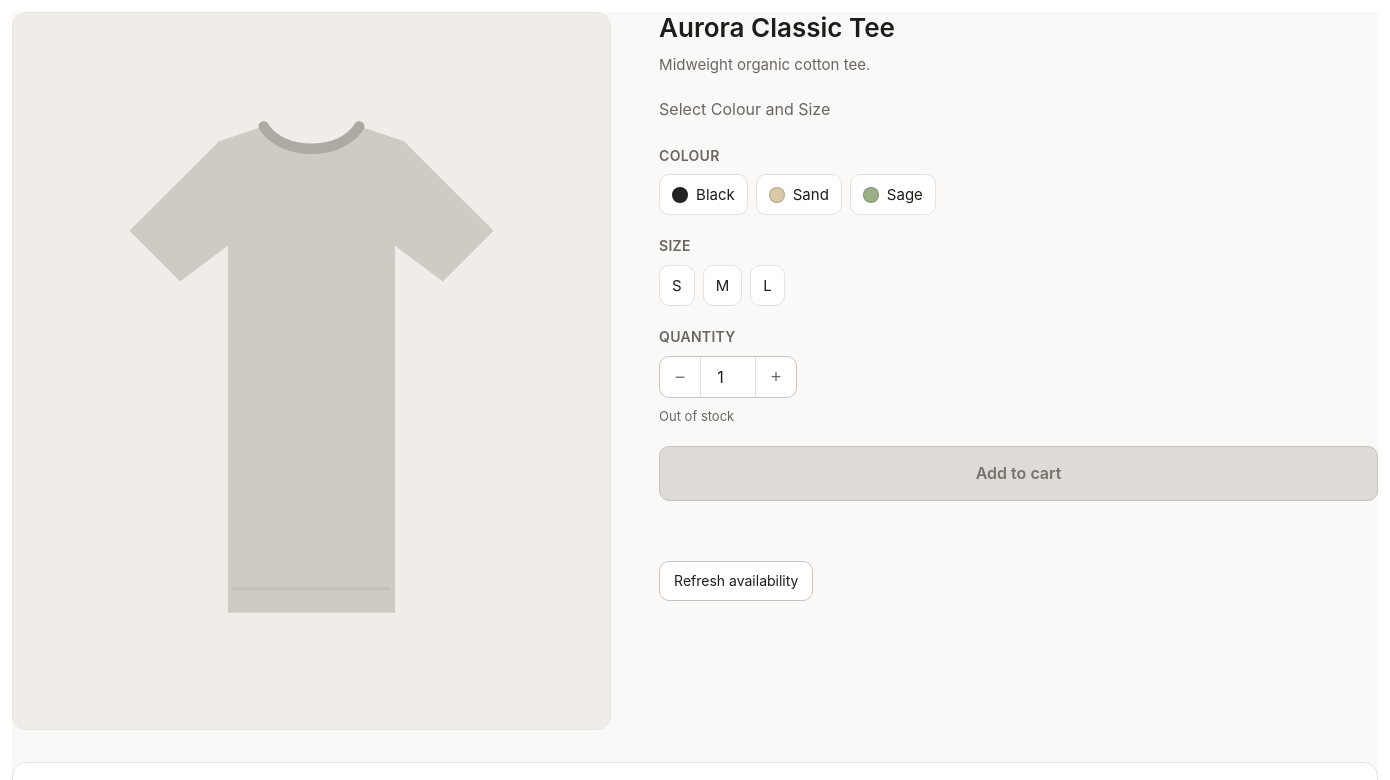
add to cart › adopts the server's stock figure when the add is refused
The image size is (1390, 780).
Expected: the heading "Aurora Classic Tee" is shown, [659, 12, 895, 43]
Click the radio button labelled "Black" at (703, 195), box [659, 174, 748, 216]
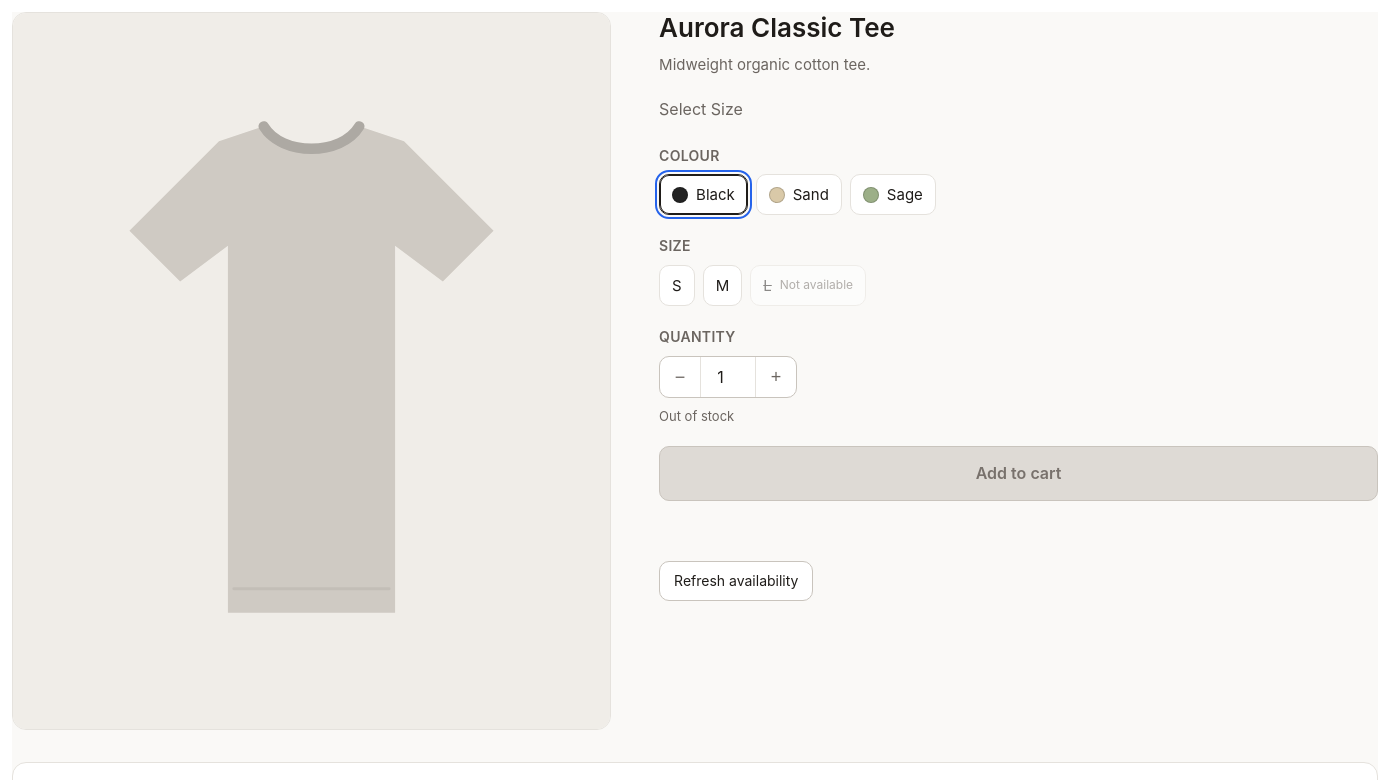
Click the radio button labelled "M" at (722, 286), box [703, 265, 742, 306]
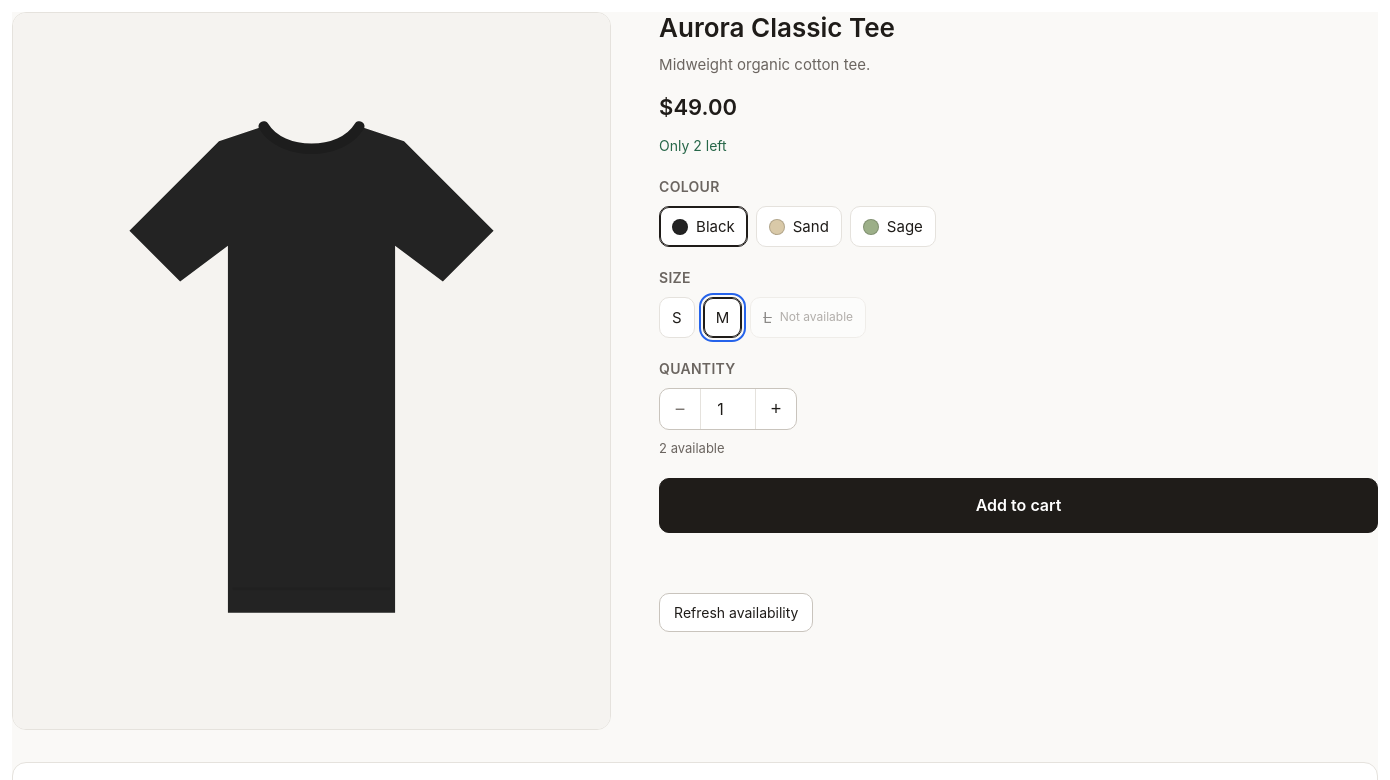
Click the button named "Increase quantity" at (776, 409), box [756, 389, 796, 429]
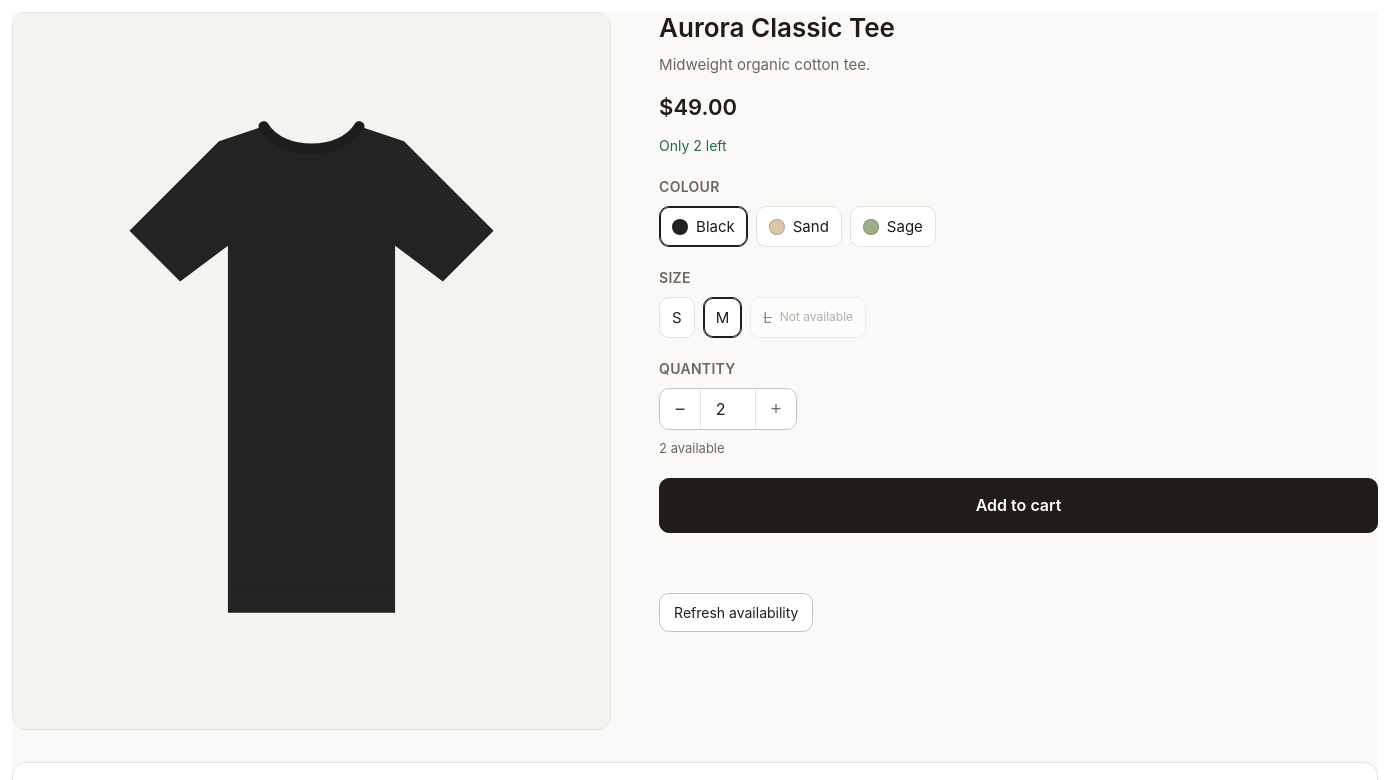
Expected: the number field labelled "Quantity" holds "2", [700, 389, 756, 429]
Click the button "Add to cart" at (1019, 505), box [659, 478, 1378, 533]
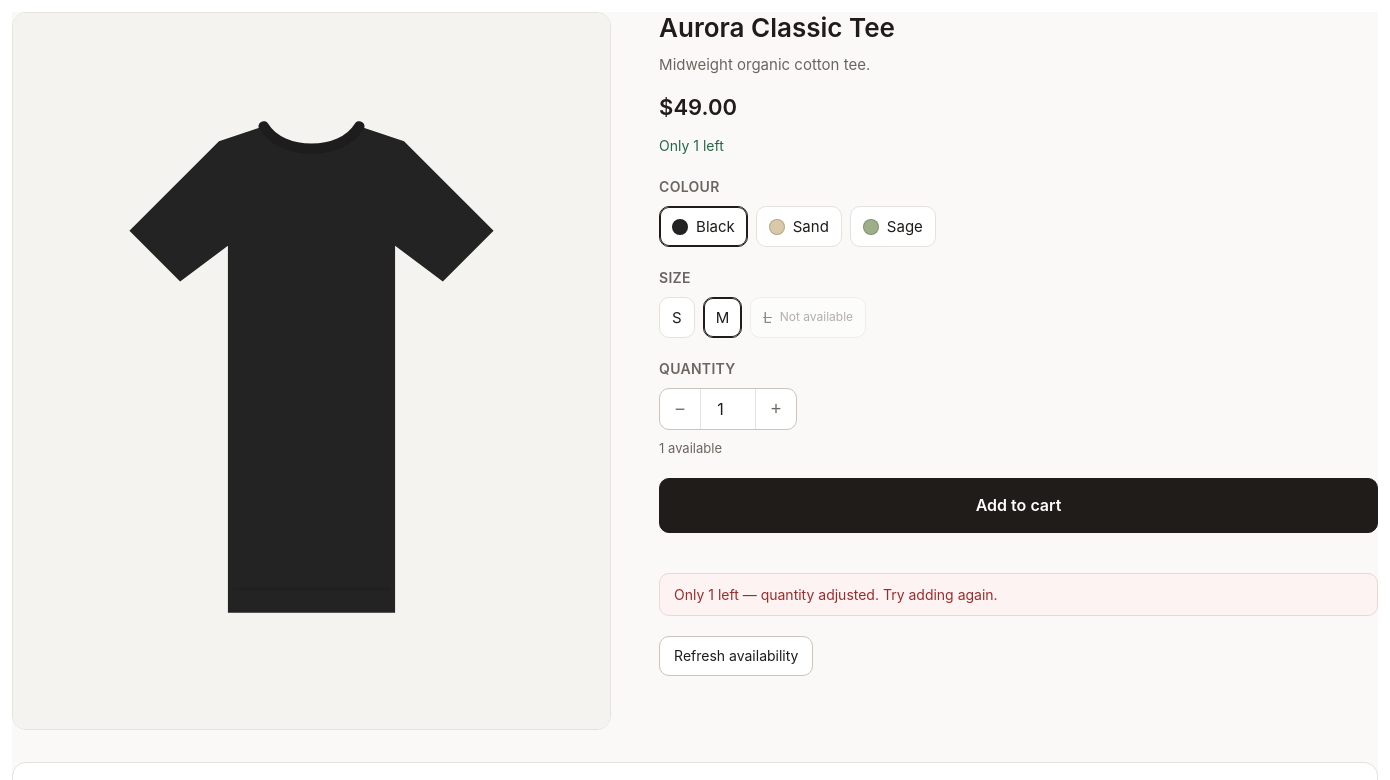
Expected: the message shows "Only 1 left", [674, 586, 998, 603]
Expected: the number field labelled "Quantity" holds "1", [700, 389, 756, 429]
